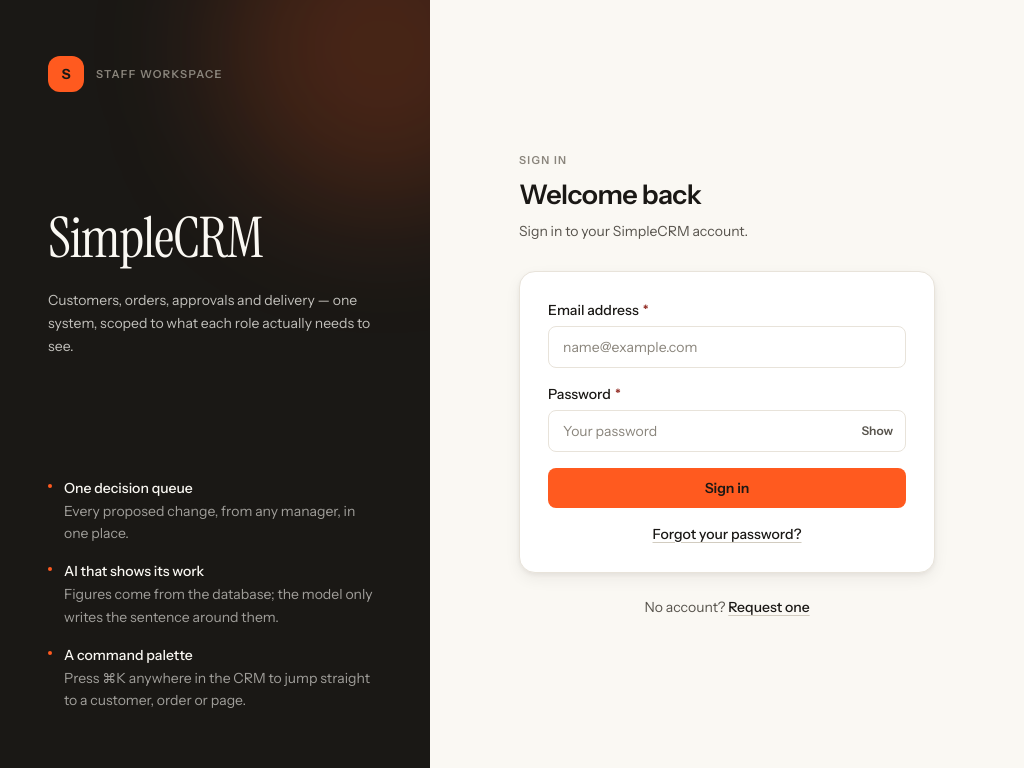
Test: Login › shows the lockout message and wait time on a 429
Step 1. Type "ayesha@example.com" into the field labelled "Email address*" → (727, 346), box [548,326,906,368]
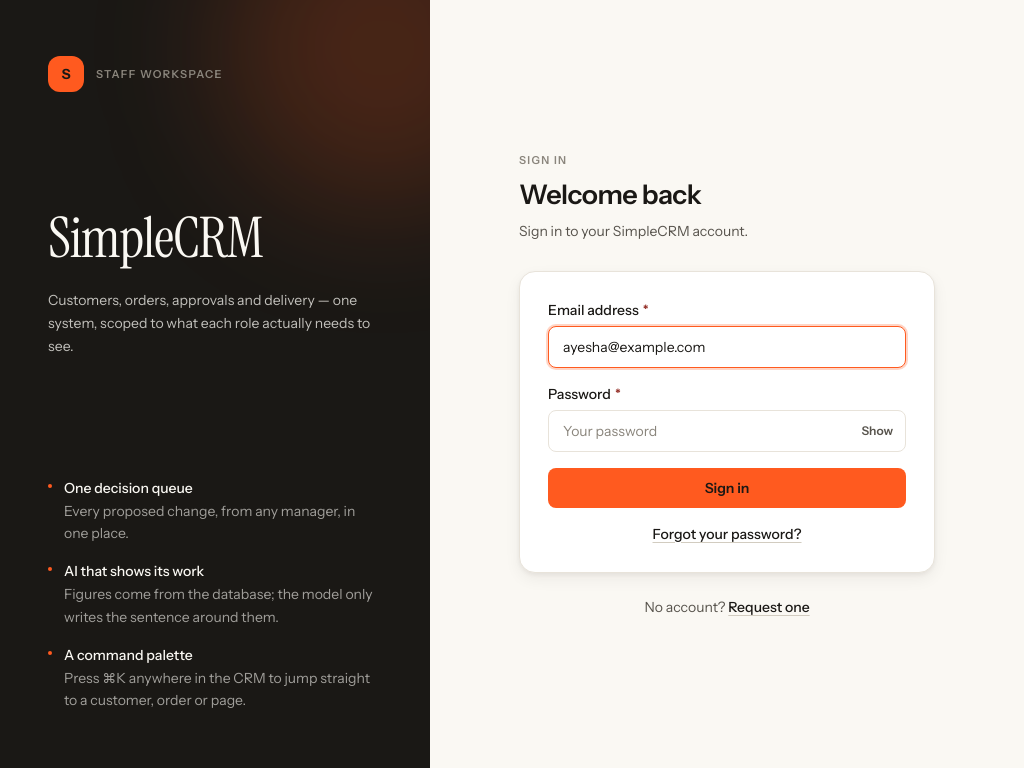
Step 2. Type "wrong-password" into the password field labelled "Password*" → (727, 430), box [548,410,906,452]
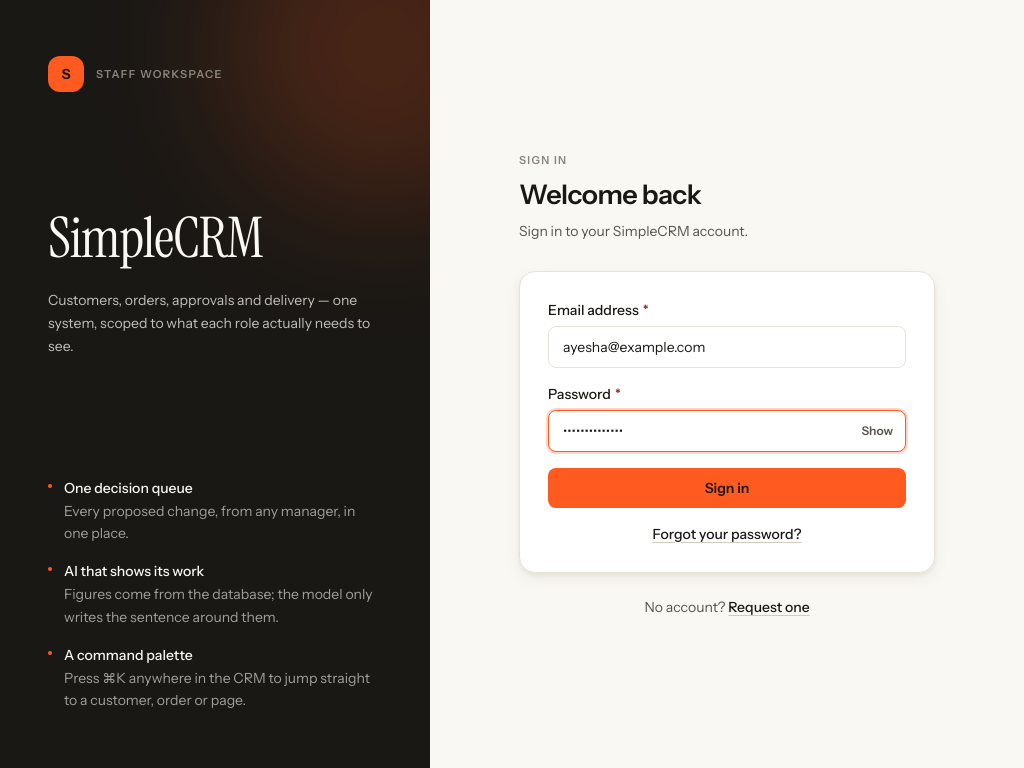
Step 3. Click the button "Sign in" → (727, 488), box [548,468,906,508]
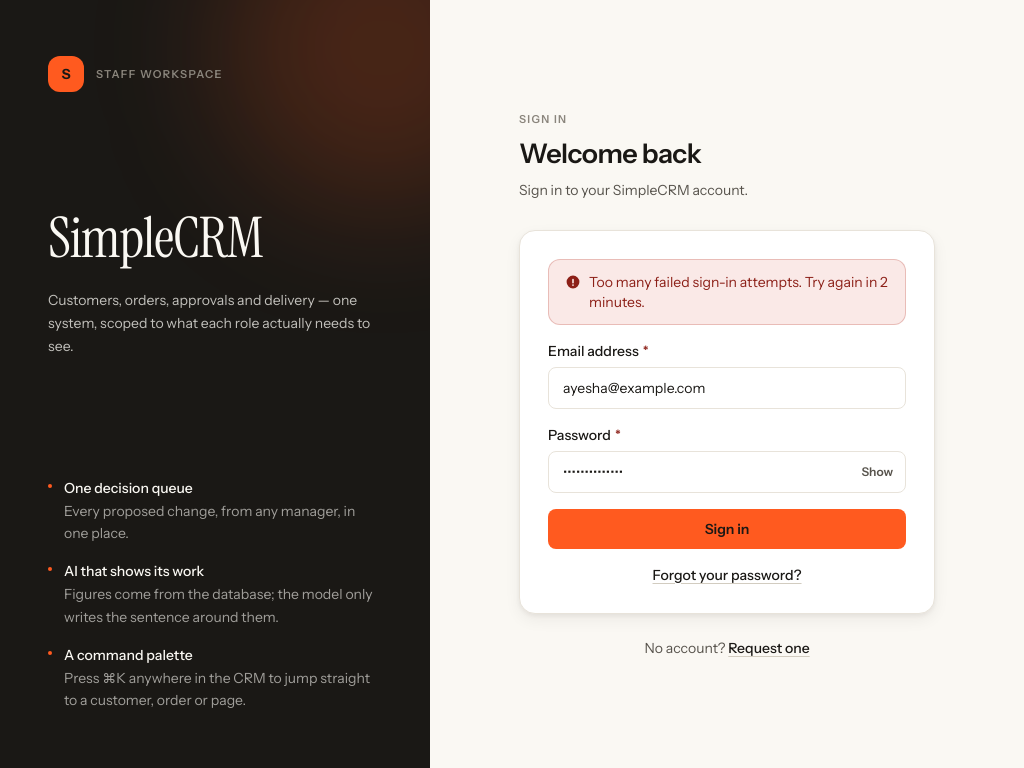
Result: the text "Too many failed sign-in attempts. Try again in 2 minutes." is shown at [565,272,889,312]
